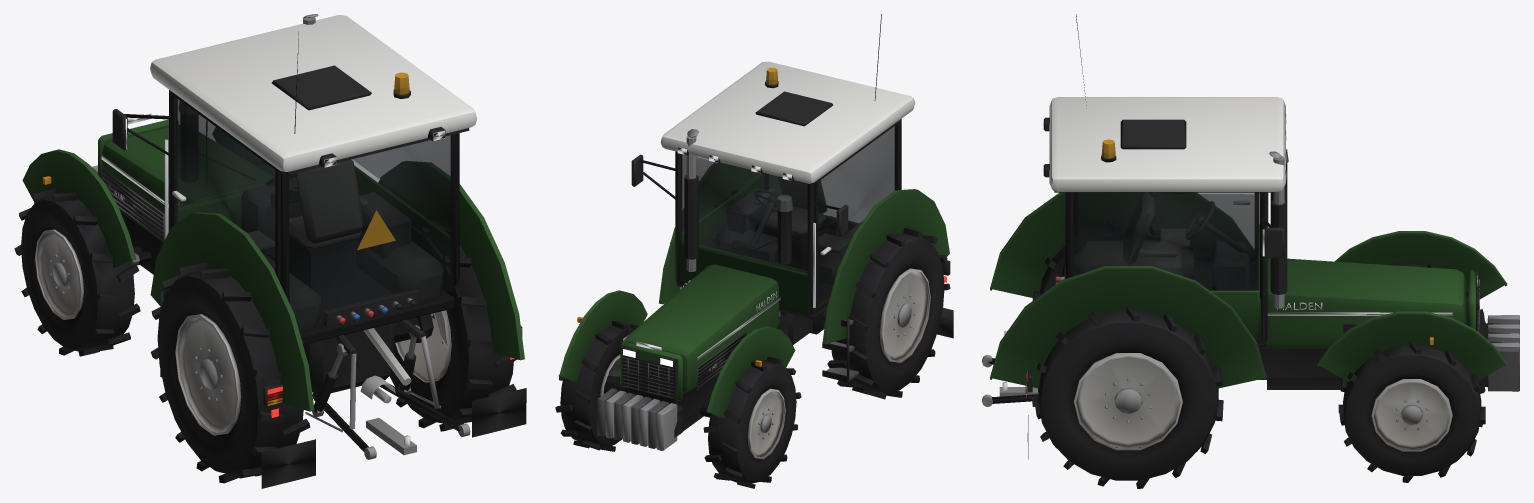
File: tractor_a.glb
3 views of the same model, side by side, from view 1: azimuth 30°, elevation 25°; view 2: azimuth 150°, elevation 25°; view 3: azimuth 270°, elevation 25° (orthographic). The views are drawn at different scales.
Parts seen in each view (by area): view 1: tractor_a_body, wheel_rl, wheel_fl, wheel_rr; view 2: tractor_a_body, wheel_rl, wheel_fl, wheel_fr; view 3: tractor_a_body, wheel_rr, wheel_fr, wheel_rl.
Boxes of the visible parts, left/top/right/bottom form: tractor_a_body: left=22, top=14, right=526, bottom=488; wheel_rl: left=150, top=262, right=310, bottom=483; wheel_fl: left=14, top=188, right=140, bottom=356; wheel_rr: left=389, top=212, right=517, bottom=431; tractor_a_body: left=559, top=14, right=953, bottom=450; wheel_rl: left=827, top=228, right=950, bottom=399; wheel_fl: left=703, top=356, right=801, bottom=488; wheel_fr: left=555, top=321, right=638, bottom=451; tractor_a_body: left=982, top=14, right=1519, bottom=459; wheel_rr: left=1032, top=305, right=1223, bottom=488; wheel_fr: left=1338, top=341, right=1485, bottom=482; wheel_rl: left=1032, top=218, right=1211, bottom=300.
Size of the model in its own units: 2.47 by 3.96 by 4.93.
